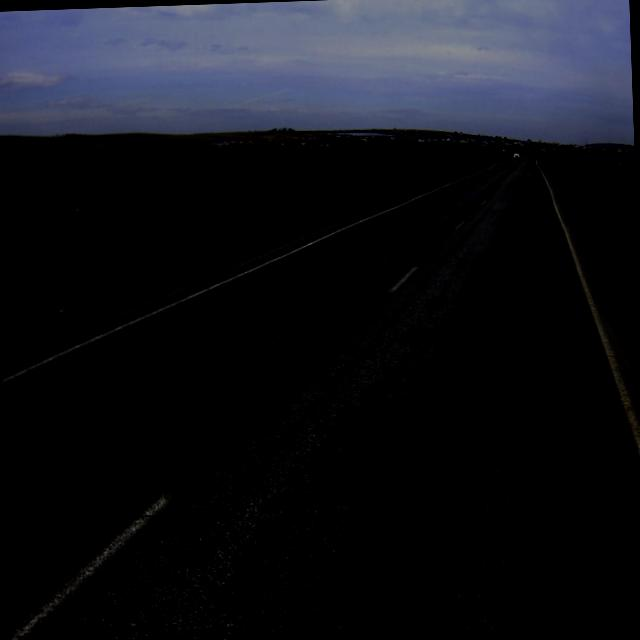road: (2, 152, 640, 640)
